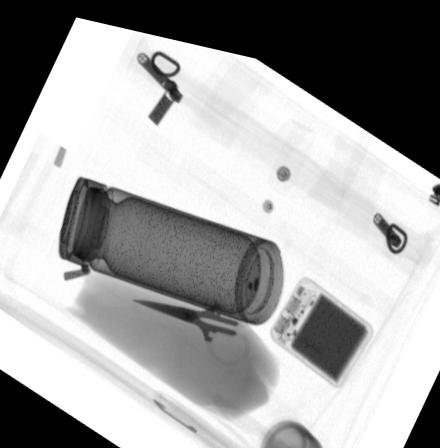Powerbank: (268, 259, 374, 371)
Scissors: (130, 275, 262, 359)
